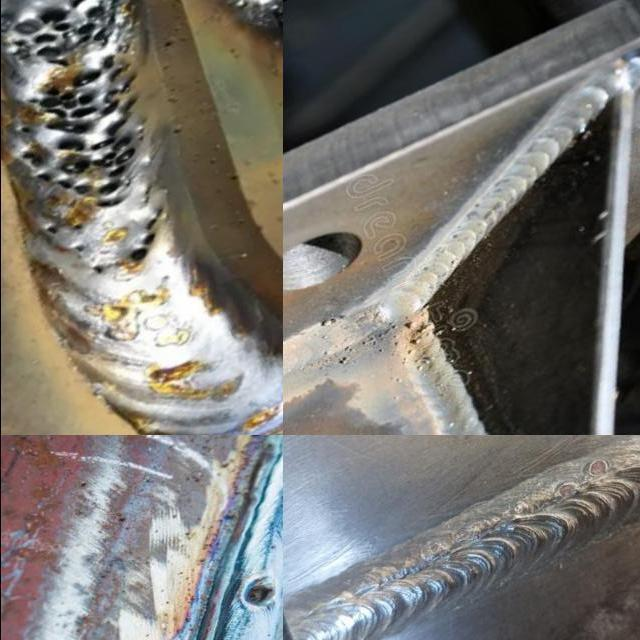defect: (0, 0, 149, 211), (359, 317, 433, 388), (123, 203, 169, 267), (237, 574, 277, 613), (311, 312, 352, 333), (584, 454, 613, 479), (553, 480, 582, 504), (455, 522, 480, 542), (424, 540, 448, 560), (336, 343, 355, 368), (88, 260, 111, 277), (69, 243, 88, 255), (43, 225, 59, 236), (72, 222, 84, 233)
